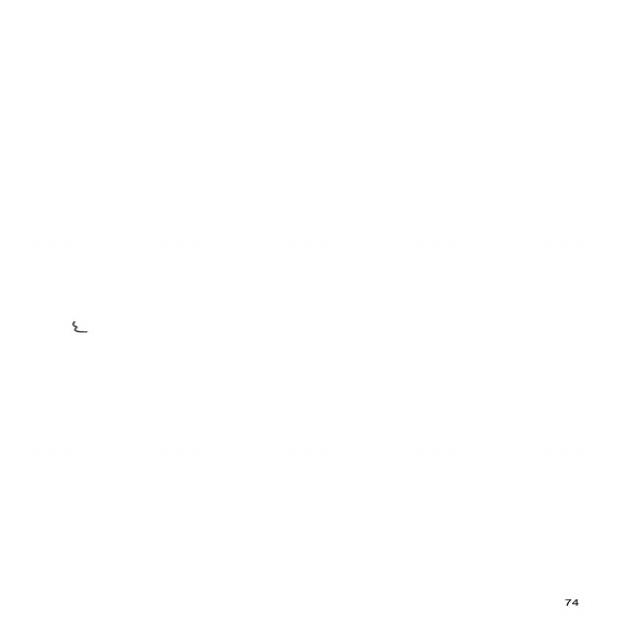4 -four-: (67, 319, 91, 335)
